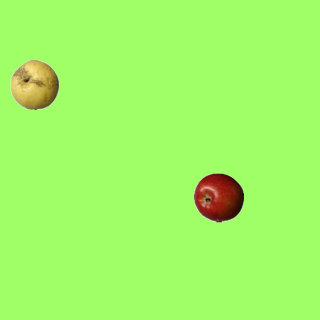Apple Braeburn: (193, 172, 243, 222)
Apple Golden 1: (9, 59, 59, 109)
